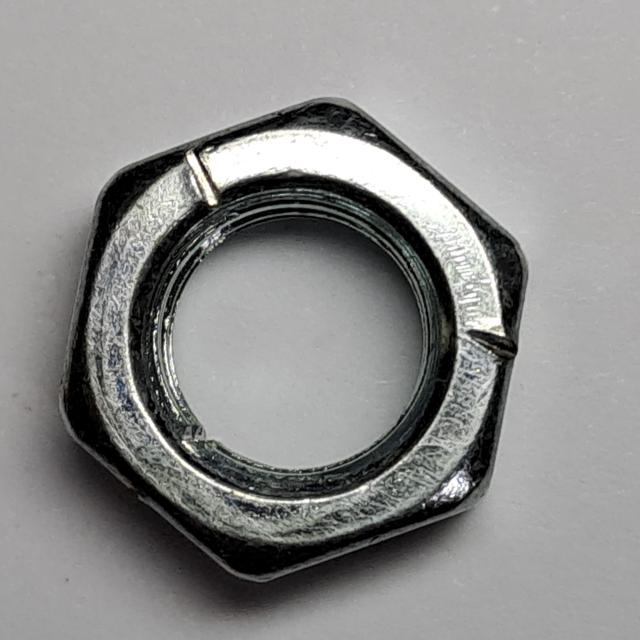Scratches: (42, 81, 544, 606)
